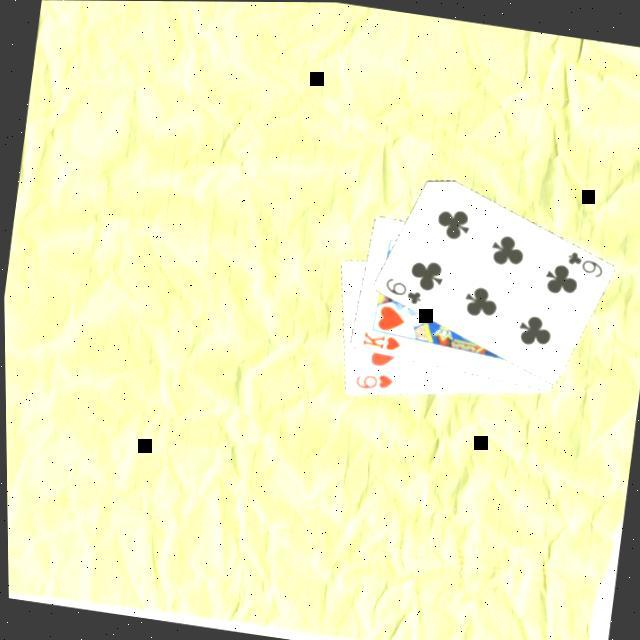6C: (378, 274, 424, 308), (560, 247, 605, 281)
6H: (349, 366, 394, 396)
KH: (357, 328, 402, 355)
